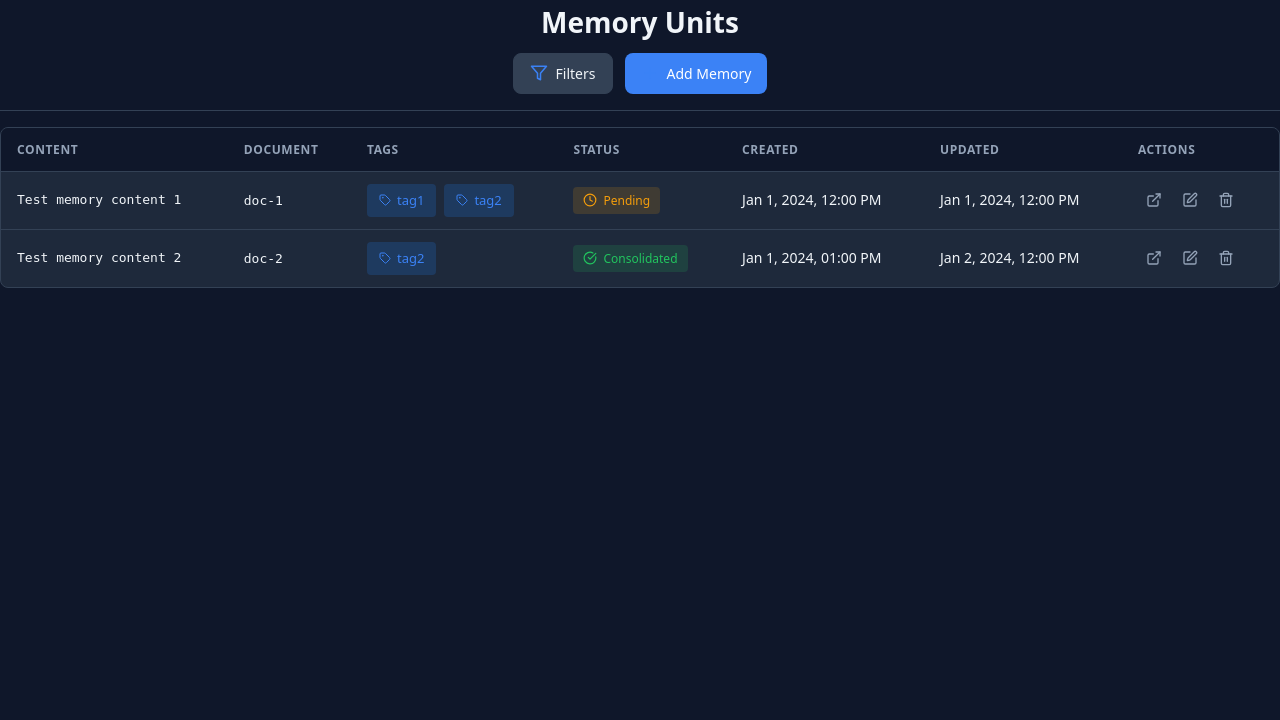
Test case: MemoryListPage › shows delete confirmation dialog
Click the button named "Delete" in the row of "Test memory content 1".
click(1226, 200)  # box [1210,184,1242,216]
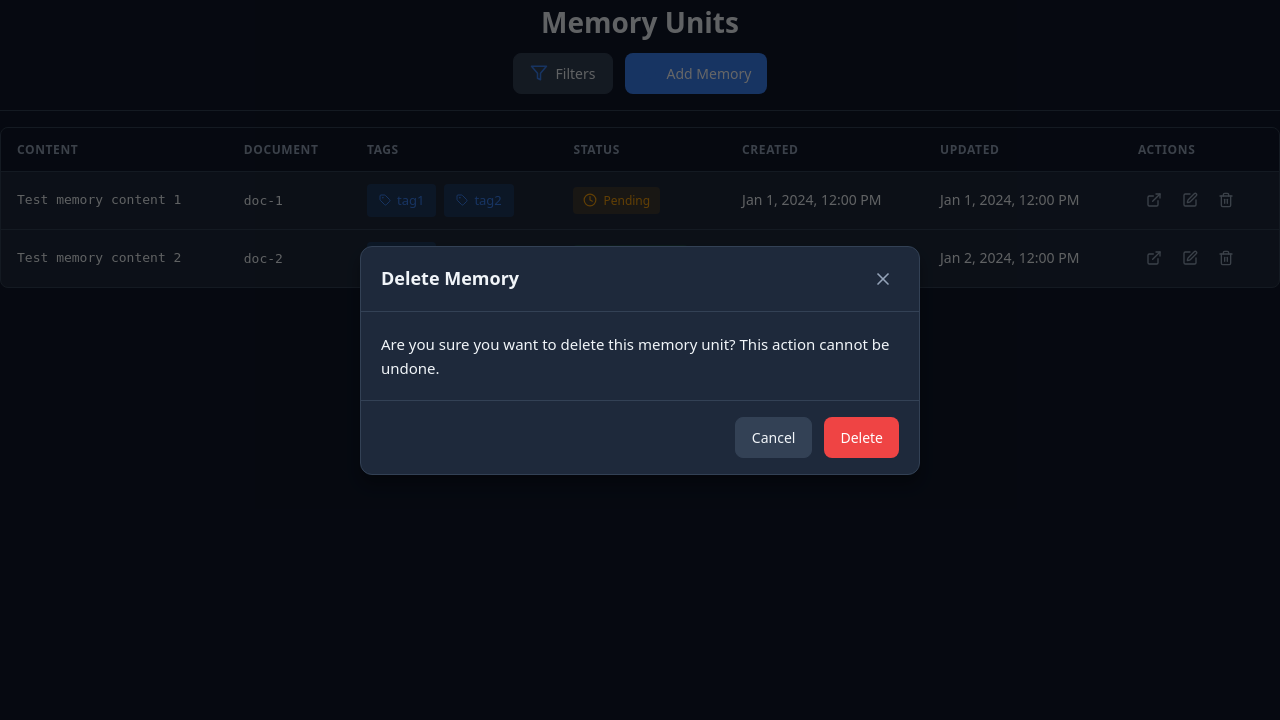
Result: the heading "Delete Memory" is shown at [381,264,519,293]
Result: the text "Are you sure you want to delete this memory unit" is shown at [381,334,890,378]
